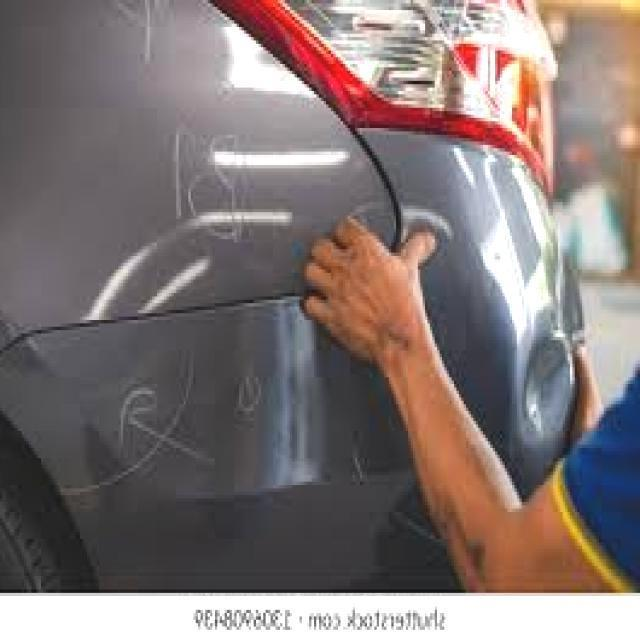minor: (512, 312, 578, 453)
